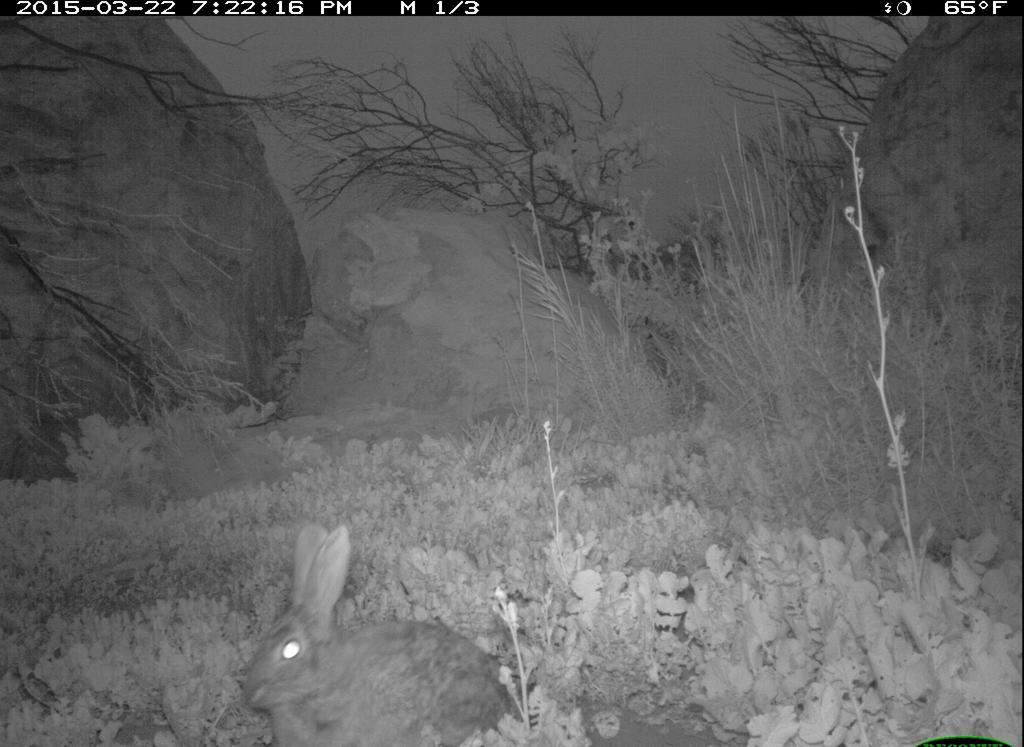rabbit: (227, 513, 552, 747)
